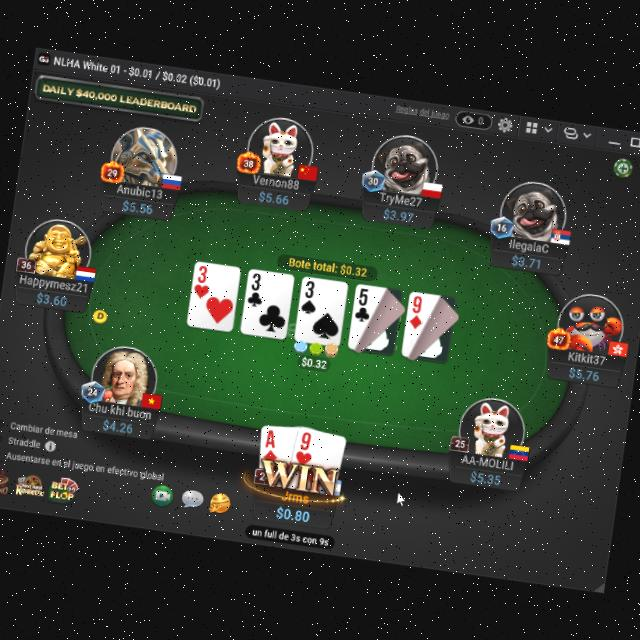3c: (246, 268, 268, 308)
3s: (300, 275, 322, 314)
4h: (192, 261, 213, 298)
5c: (353, 283, 375, 323)
9d: (408, 292, 428, 329)
9h: (294, 426, 316, 462), (407, 292, 426, 329)
Ad: (262, 426, 283, 460)
bet_text: (300, 352, 330, 369)
dealer: (90, 305, 109, 324)
pot_text: (288, 252, 370, 275)
stack_text: (274, 499, 312, 521), (120, 194, 155, 214), (510, 249, 543, 269), (381, 204, 416, 222), (100, 414, 134, 432), (36, 286, 70, 304), (568, 362, 603, 379), (258, 187, 292, 204), (470, 466, 502, 484)
